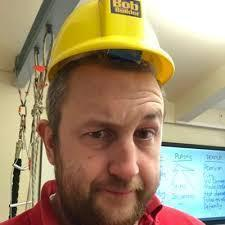helmet: (47, 0, 175, 85)
